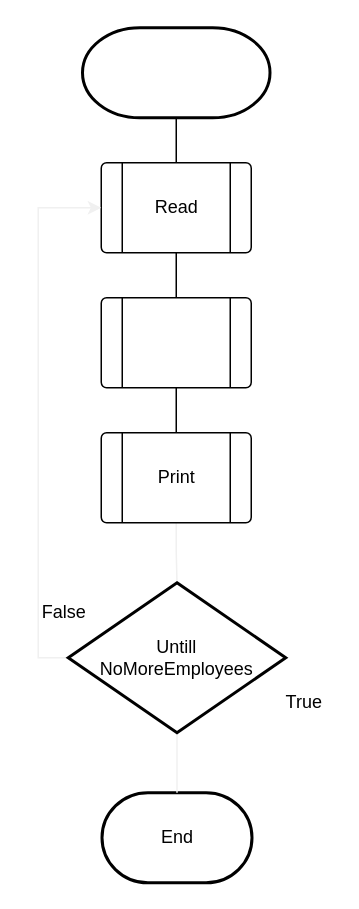
Image size: 359x909. Some labels were removed from this diagram. Each missing label, with the centre of its shape:
Calc: [175,342]
Control: [175,72]
